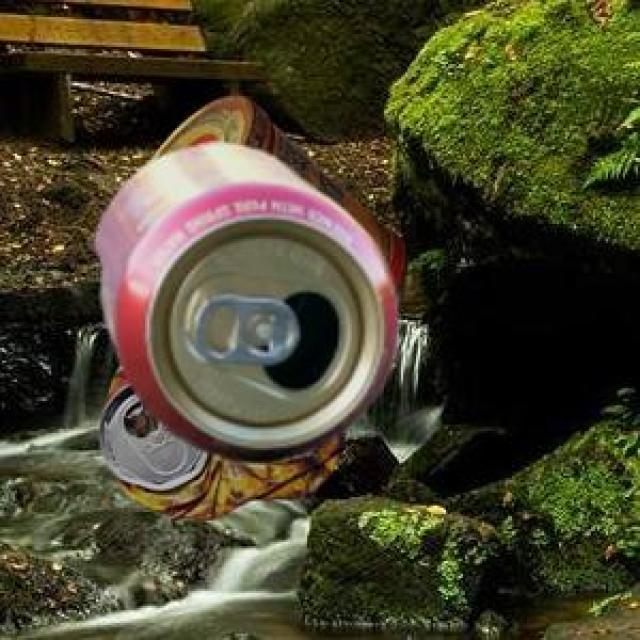Can: (93, 140, 394, 460), (146, 93, 404, 293), (97, 364, 342, 517)
